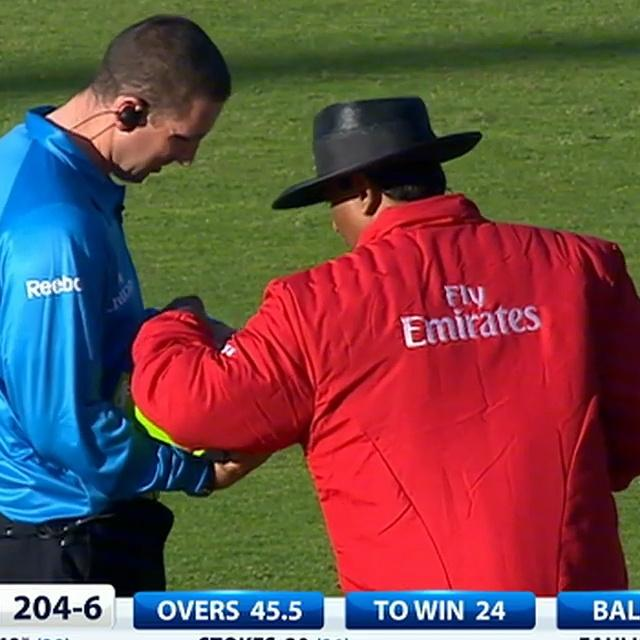umpire: (0, 49, 640, 595)
